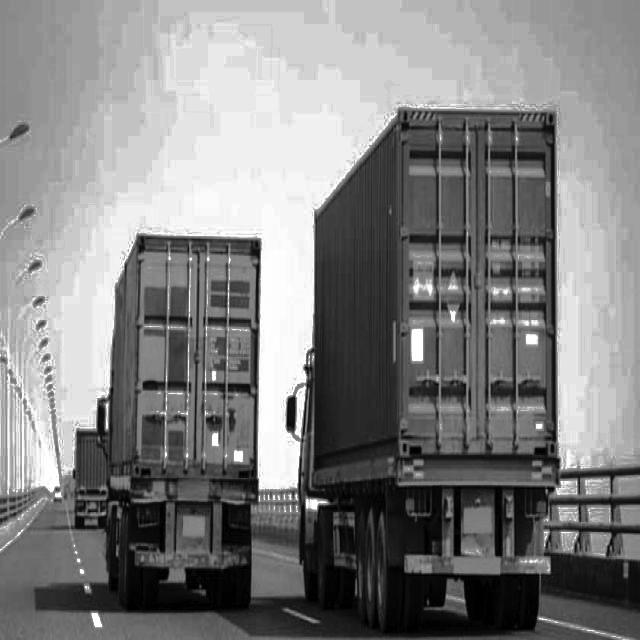HCV: (283, 75, 590, 635), (92, 195, 270, 618)
